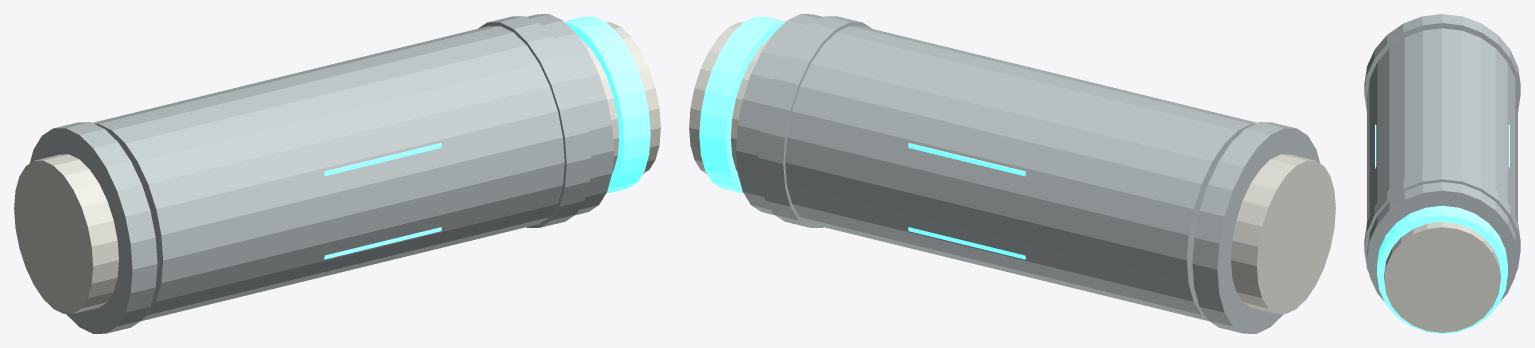
Rendered from s7-i04-quick.glb.
3 views of the same model, side by side, from view 1: azimuth 30°, elevation 25°; view 2: azimuth 150°, elevation 25°; view 3: azimuth 270°, elevation 25° (orthographic). The views are drawn at different scales.
Parts seen in each view (by area): view 1: 000_coupling_barrel, 001_left_interface_sealing_socket, 003_left_interface_locking_collar, 006_right_interface_locking_collar, 005_right_interface_cyan_snap_seal, 004_right_interface_sealing_socket, 007_quick_release_thumb_latch; view 2: 000_coupling_barrel, 001_left_interface_sealing_socket, 003_left_interface_locking_collar, 006_right_interface_locking_collar, 005_right_interface_cyan_snap_seal, 004_right_interface_sealing_socket, 007_quick_release_thumb_latch; view 3: 000_coupling_barrel, 004_right_interface_sealing_socket, 005_right_interface_cyan_snap_seal, 003_left_interface_locking_collar, 006_right_interface_locking_collar, 007_quick_release_thumb_latch.
Boxes of the visible parts, left/top/right/bottom form: 000_coupling_barrel: left=92, top=14, right=613, bottom=320; 001_left_interface_sealing_socket: left=14, top=154, right=118, bottom=313; 003_left_interface_locking_collar: left=29, top=122, right=157, bottom=333; 006_right_interface_locking_collar: left=478, top=16, right=591, bottom=227; 005_right_interface_cyan_snap_seal: left=564, top=16, right=650, bottom=193; 004_right_interface_sealing_socket: left=579, top=22, right=660, bottom=173; 007_quick_release_thumb_latch: left=324, top=143, right=441, bottom=259; 000_coupling_barrel: left=736, top=14, right=1257, bottom=320; 001_left_interface_sealing_socket: left=1231, top=154, right=1335, bottom=313; 003_left_interface_locking_collar: left=1192, top=122, right=1320, bottom=333; 006_right_interface_locking_collar: left=758, top=16, right=871, bottom=227; 005_right_interface_cyan_snap_seal: left=699, top=16, right=785, bottom=193; 004_right_interface_sealing_socket: left=689, top=22, right=770, bottom=173; 007_quick_release_thumb_latch: left=908, top=143, right=1025, bottom=259; 000_coupling_barrel: left=1367, top=28, right=1517, bottom=301; 004_right_interface_sealing_socket: left=1384, top=222, right=1500, bottom=332; 005_right_interface_cyan_snap_seal: left=1377, top=205, right=1507, bottom=333; 003_left_interface_locking_collar: left=1364, top=14, right=1520, bottom=111; 006_right_interface_locking_collar: left=1364, top=170, right=1520, bottom=272; 007_quick_release_thumb_latch: left=1375, top=124, right=1509, bottom=168.
Bounding box in the file's own units: 0.34 × 0.11 × 0.11.
